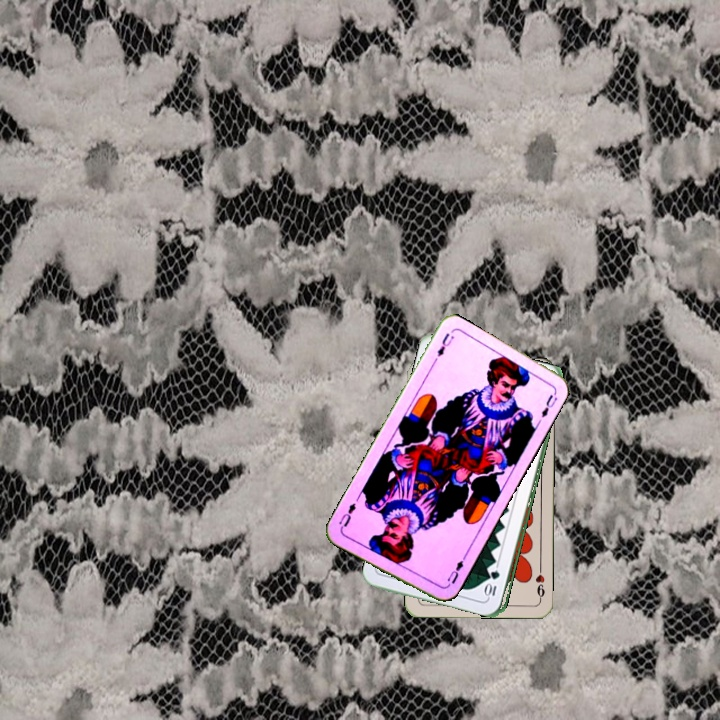EU: (443, 552, 468, 589), (433, 329, 457, 359)
G10: (484, 566, 502, 600)
H9: (531, 562, 547, 602)
